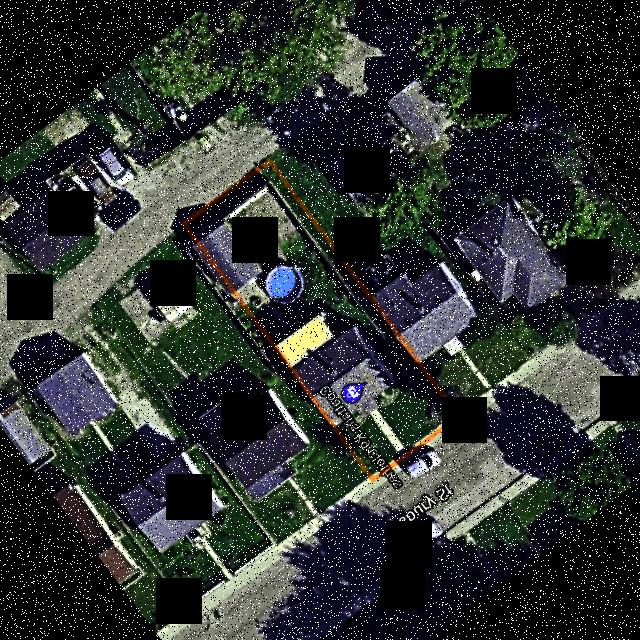Driveway: (368, 410, 407, 456)
House: (292, 325, 395, 427)
Other: (201, 223, 261, 289), (276, 313, 334, 367), (264, 264, 304, 305), (236, 278, 271, 310), (376, 386, 400, 407)
Sidewalk: (406, 415, 455, 452), (372, 455, 400, 476)
